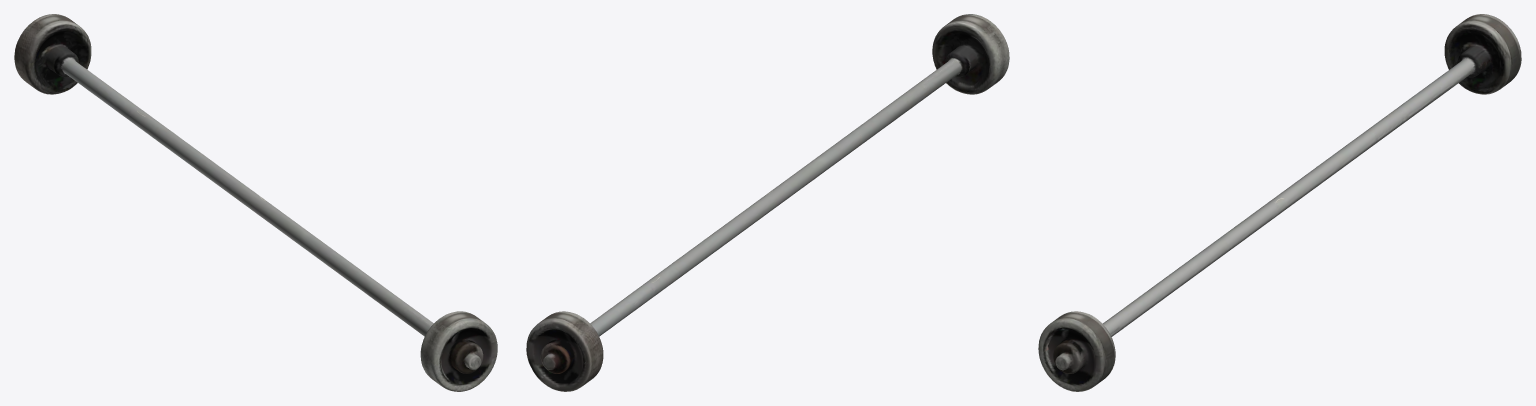
File: chassis_wheel.glb
3 renders of one model, left to right at view 1: azimuth 30°, elevation 25°; view 2: azimuth 150°, elevation 25°; view 3: azimuth 330°, elevation 25°, orthographic.
Visible parts, largest first — view 1: Roue 1.001; view 2: Roue 1.001; view 3: Roue 1.001.
Part boxes in pixels (<box>): Roue 1.001: <box>14,14,497,391</box>; Roue 1.001: <box>526,14,1009,391</box>; Roue 1.001: <box>1038,14,1521,391</box>.
Bounding box in the file's own units: 0.1579 × 0.162 × 1.82.
Materials: 1 (1 with a texture image).
